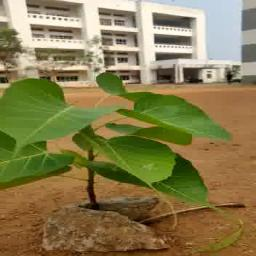LEAVS: (1, 64, 231, 202)
